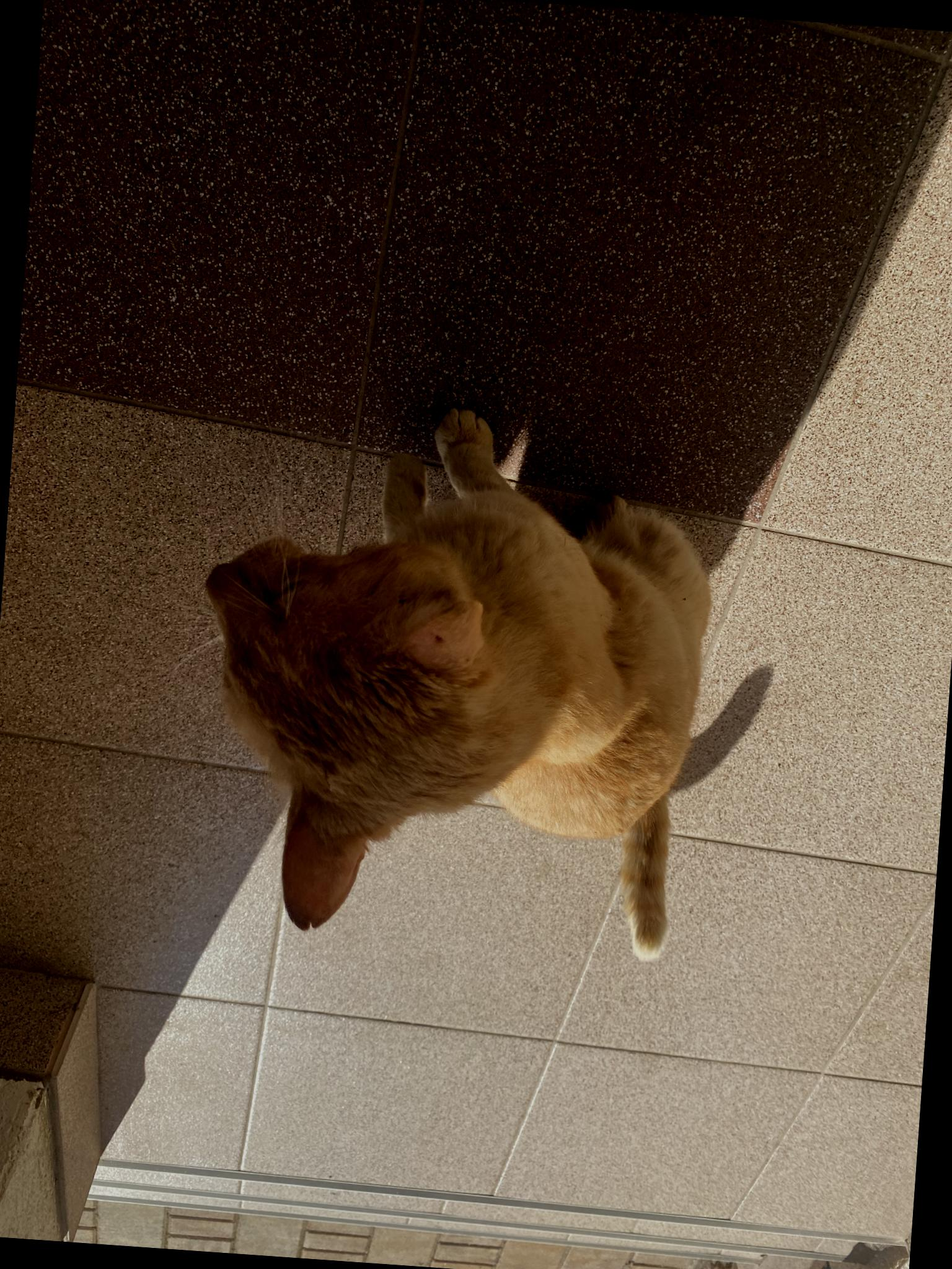macka: (182, 394, 726, 960)
